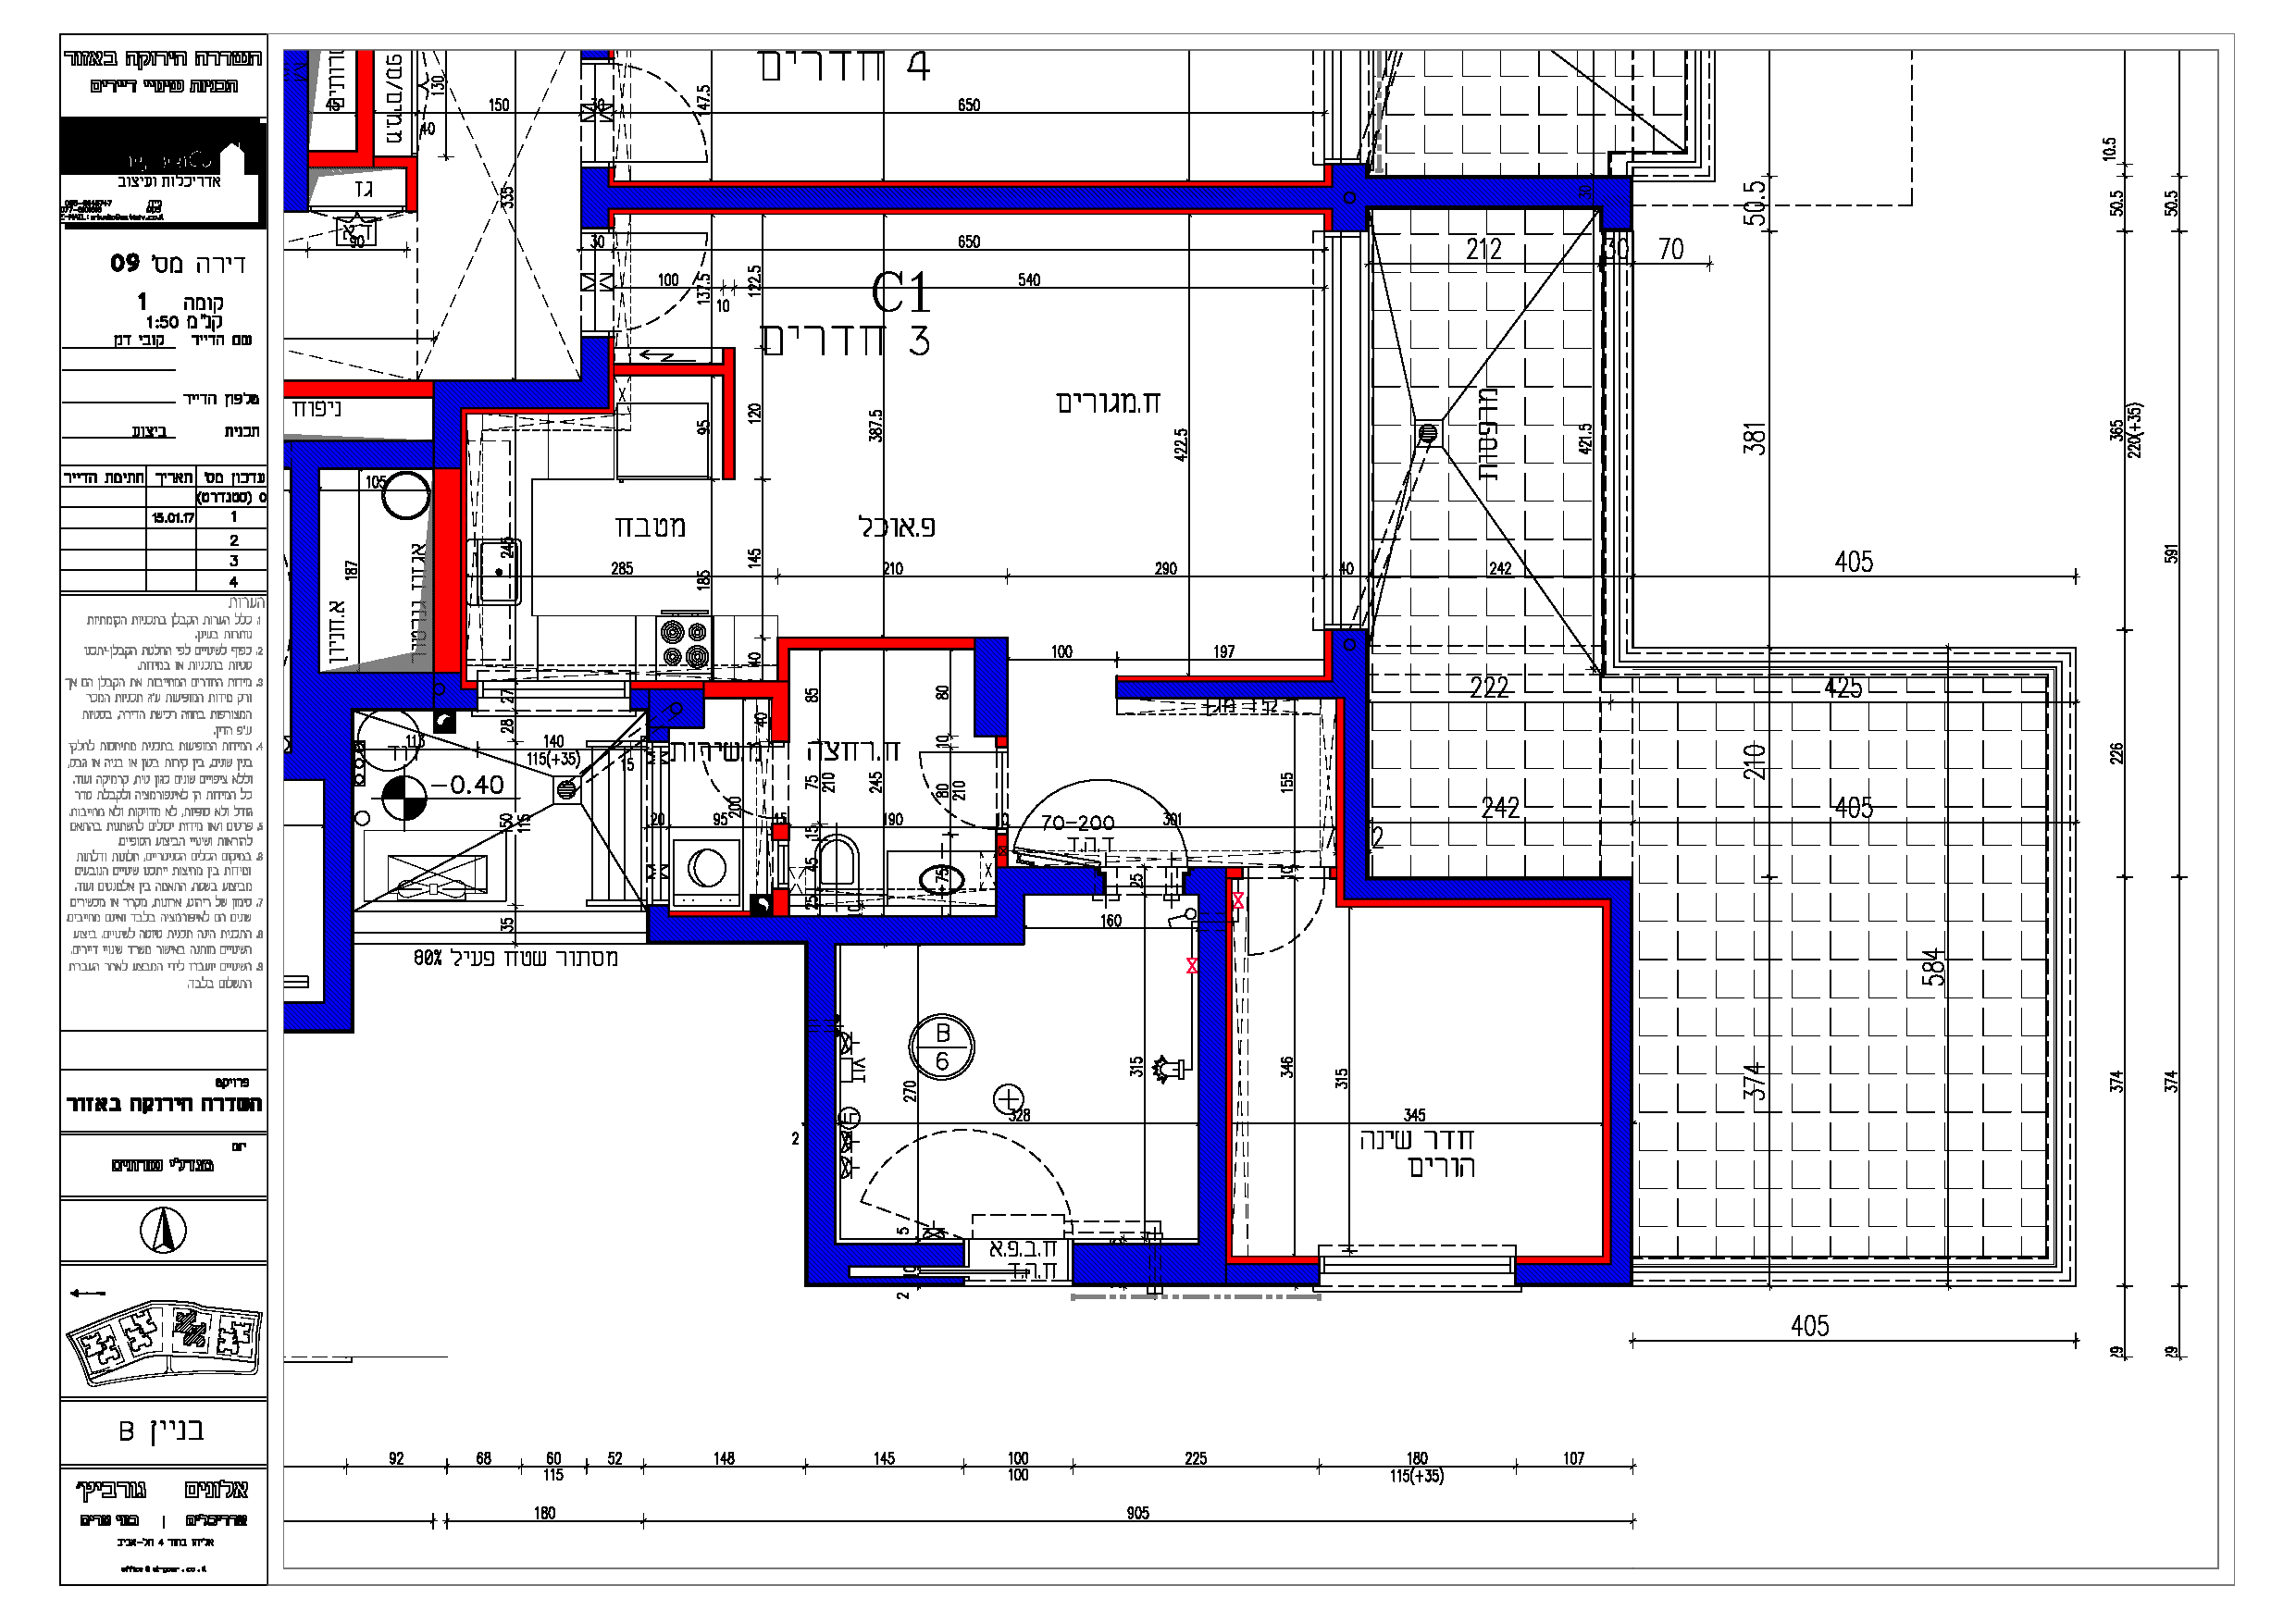wall: (583, 188, 1337, 209), (648, 917, 1017, 943), (323, 676, 350, 1029), (292, 441, 318, 729), (812, 920, 833, 1279), (1202, 933, 1223, 1291), (1614, 884, 1630, 1282), (1367, 179, 1574, 206), (1349, 878, 1620, 896), (436, 472, 458, 674), (295, 441, 436, 469), (295, 678, 434, 706), (436, 383, 606, 406), (1121, 680, 1342, 696), (1347, 659, 1363, 866), (285, 70, 306, 213), (975, 641, 1005, 738), (819, 1247, 963, 1265), (288, 381, 434, 397), (1077, 1249, 1145, 1282), (436, 383, 458, 465), (581, 337, 608, 408), (358, 51, 372, 165), (1602, 177, 1630, 227)
window: (1319, 1251, 1516, 1282)
